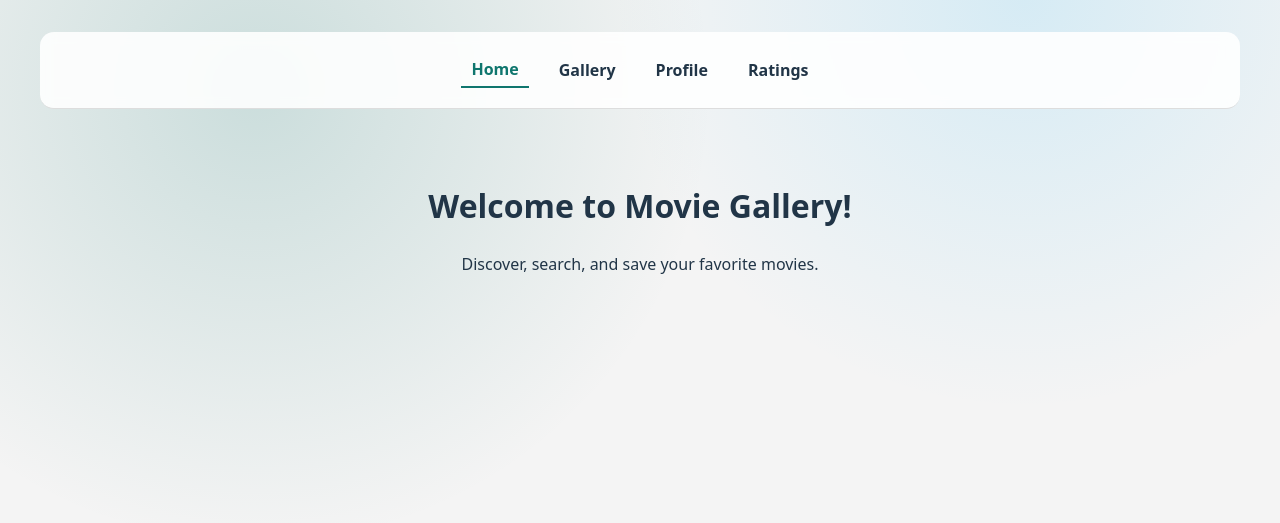
Test: App integration › protects ratings page until user logs in
Check: the heading "Welcome to Movie Gallery!" is shown, box [428,184,852,227]
Click the link "Ratings".
click(778, 70)  # box [748,59,808,81]
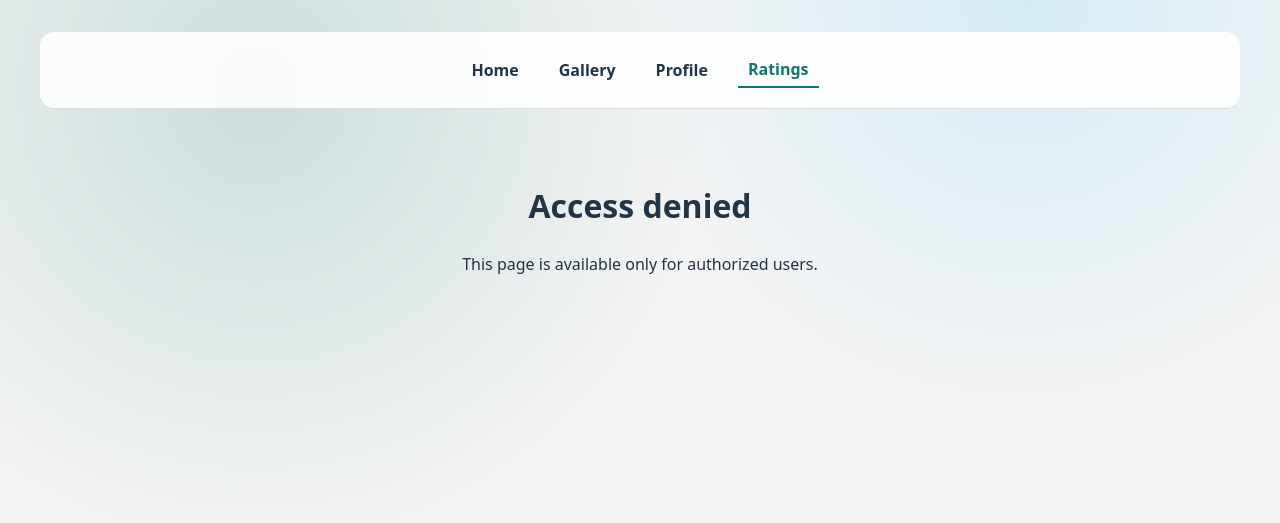
Check: the heading "Access denied" is shown, box [528,184,752,227]
Click the link "Profile".
click(682, 70)  # box [656,59,708,81]
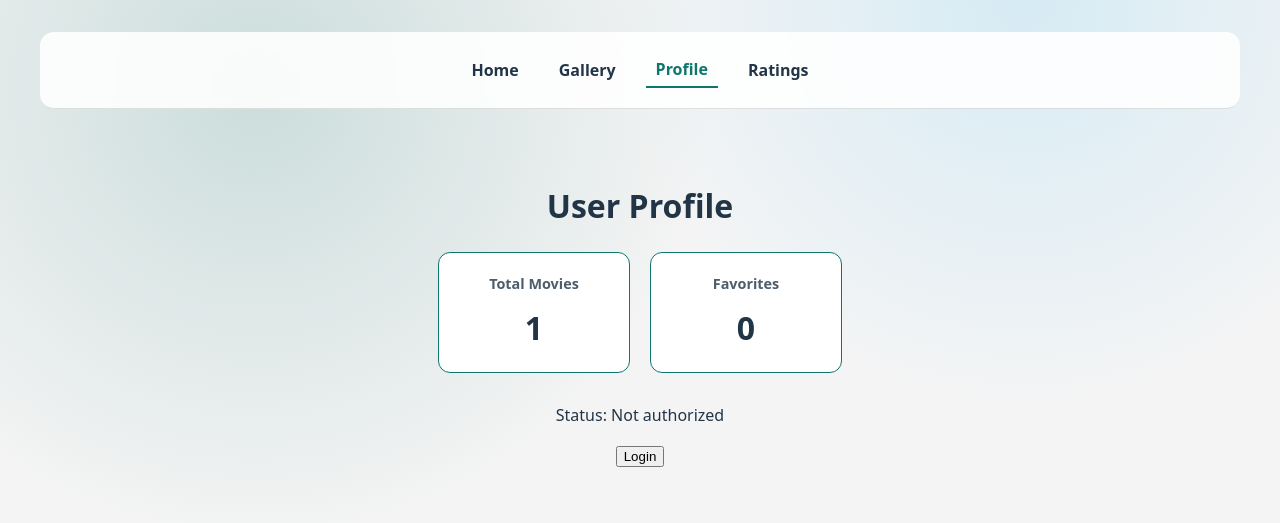
Click the button "Login".
click(640, 457)  # box [616,446,664,468]
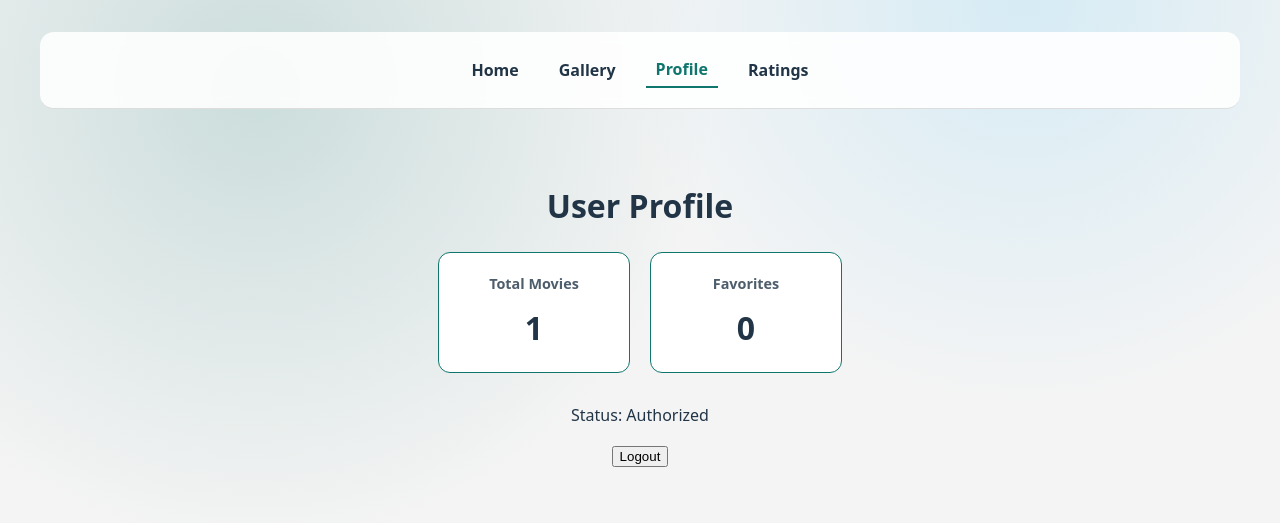
Click the link "Ratings".
click(778, 70)  # box [748,59,808,81]
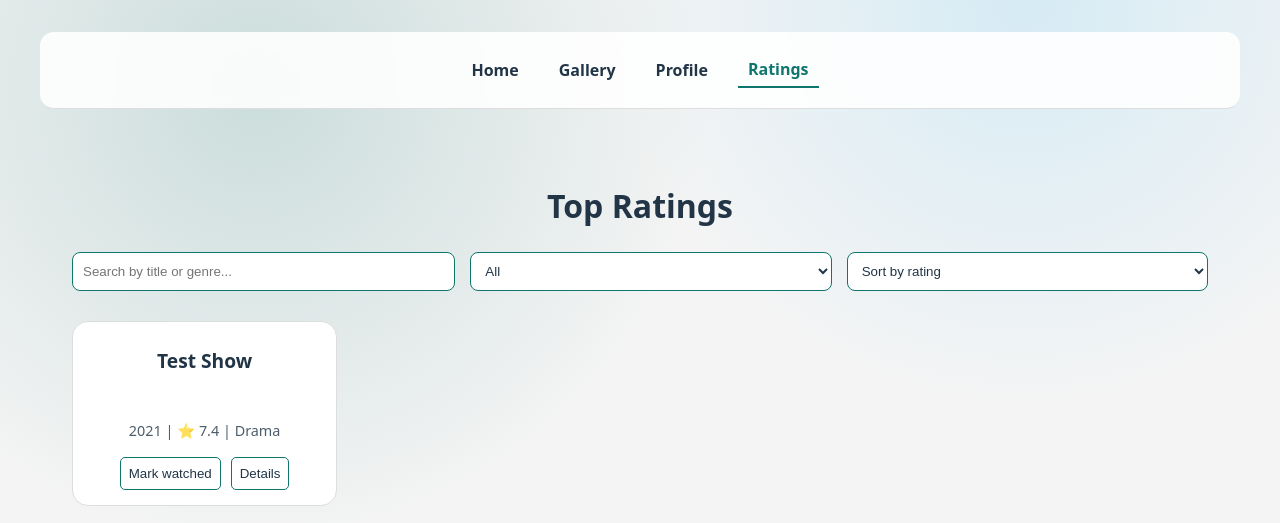
Check: the heading "Top Ratings" is shown, box [547,184,733,227]
Check: the heading "Test Show" is shown, box [157,347,252,374]
